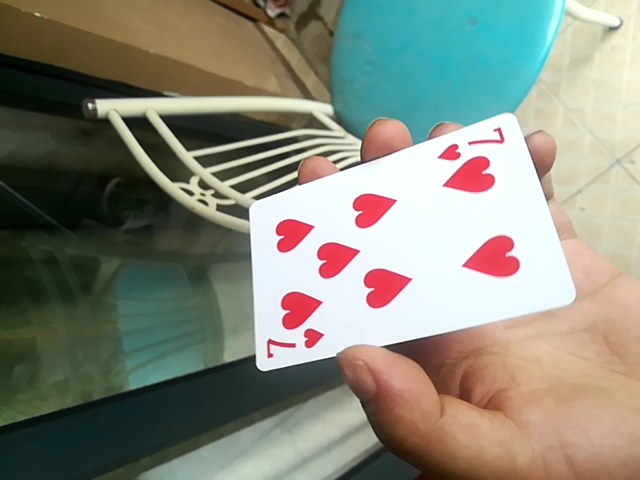hx 7: (245, 117, 578, 376)
